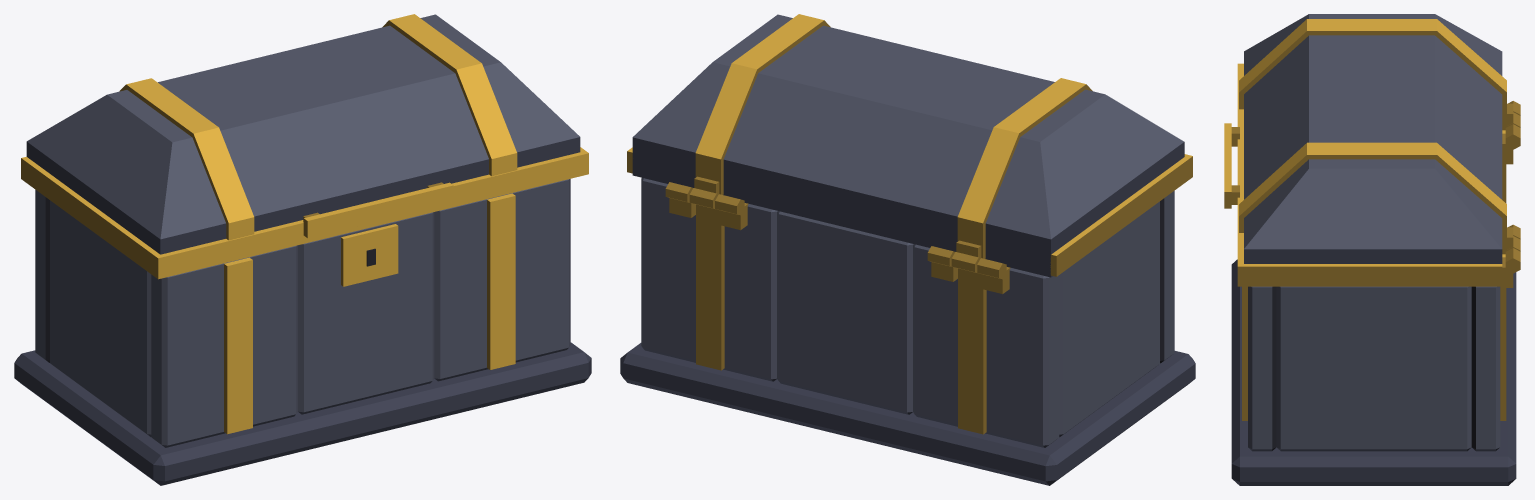
Rendered from MODEL-CHEST.fbx.
3 renders of one model, left to right at view 1: azimuth 30°, elevation 25°; view 2: azimuth 150°, elevation 25°; view 3: azimuth 270°, elevation 25°, orthographic. The views are drawn at different scales.
Parts seen in each view (by area): view 1: Base, Lid; view 2: Base, Lid; view 3: Lid, Base.
Boxes of the visible parts, <box> form: Base: <box>14,179,591,485</box>; Lid: <box>21,14,588,279</box>; Base: <box>620,178,1195,485</box>; Lid: <box>627,14,1192,277</box>; Lid: <box>1224,14,1520,286</box>; Base: <box>1231,101,1520,485</box>.
Size of the model in its own units: 1.2 by 0.812 by 0.7282.
2 materials, 2 textured.
